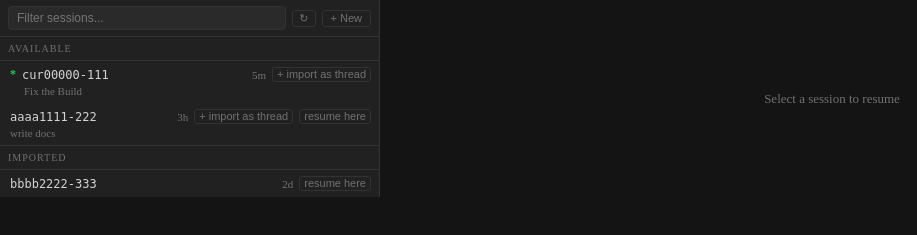
Test case: SessionsPanel › resume here › shows a failed switch (plain failure)
The image size is (917, 235).
Expected: the text "cur00000-111" is shown, [22, 68, 109, 82]
Click the button "resume here" in the row of "3h".
click(335, 116)  # box [299, 109, 371, 124]
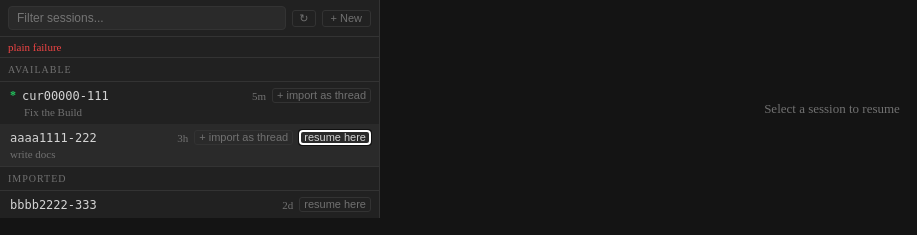
Now the text with test id "session-resume-note" reads "plain failure", box [8, 41, 62, 53]
